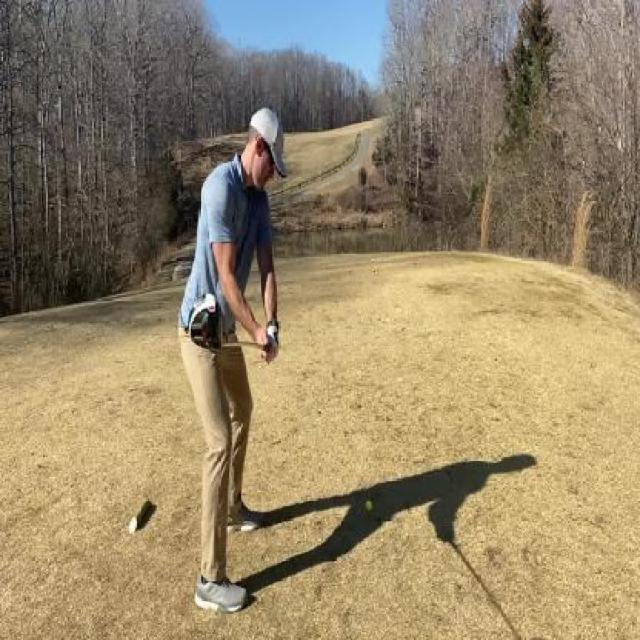club head: (188, 292, 228, 352)
